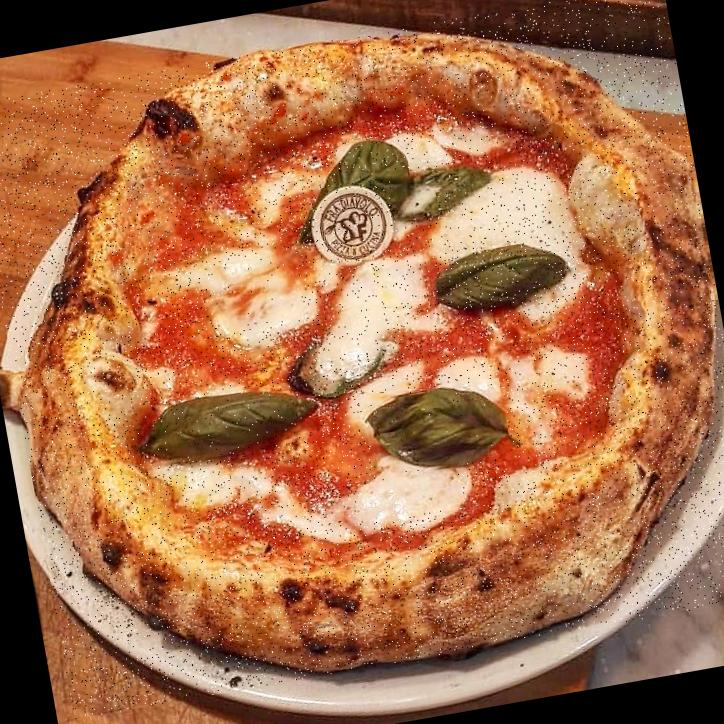Basil: (135, 379, 323, 468), (364, 378, 513, 480), (432, 236, 576, 316), (390, 160, 494, 224), (314, 134, 410, 188)
Cheese: (328, 262, 425, 354)
Pizza: (0, 0, 724, 719), (437, 172, 566, 256), (214, 250, 306, 333), (358, 469, 464, 525)
